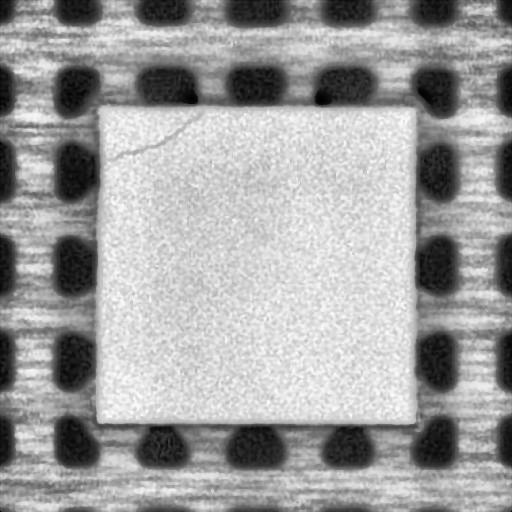DIE_CRACK: (111, 107, 205, 159)
